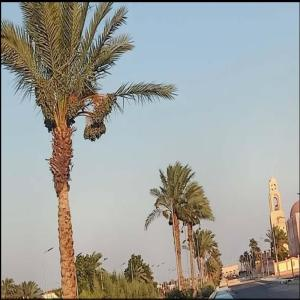palm tree: (0, 1, 178, 298)
